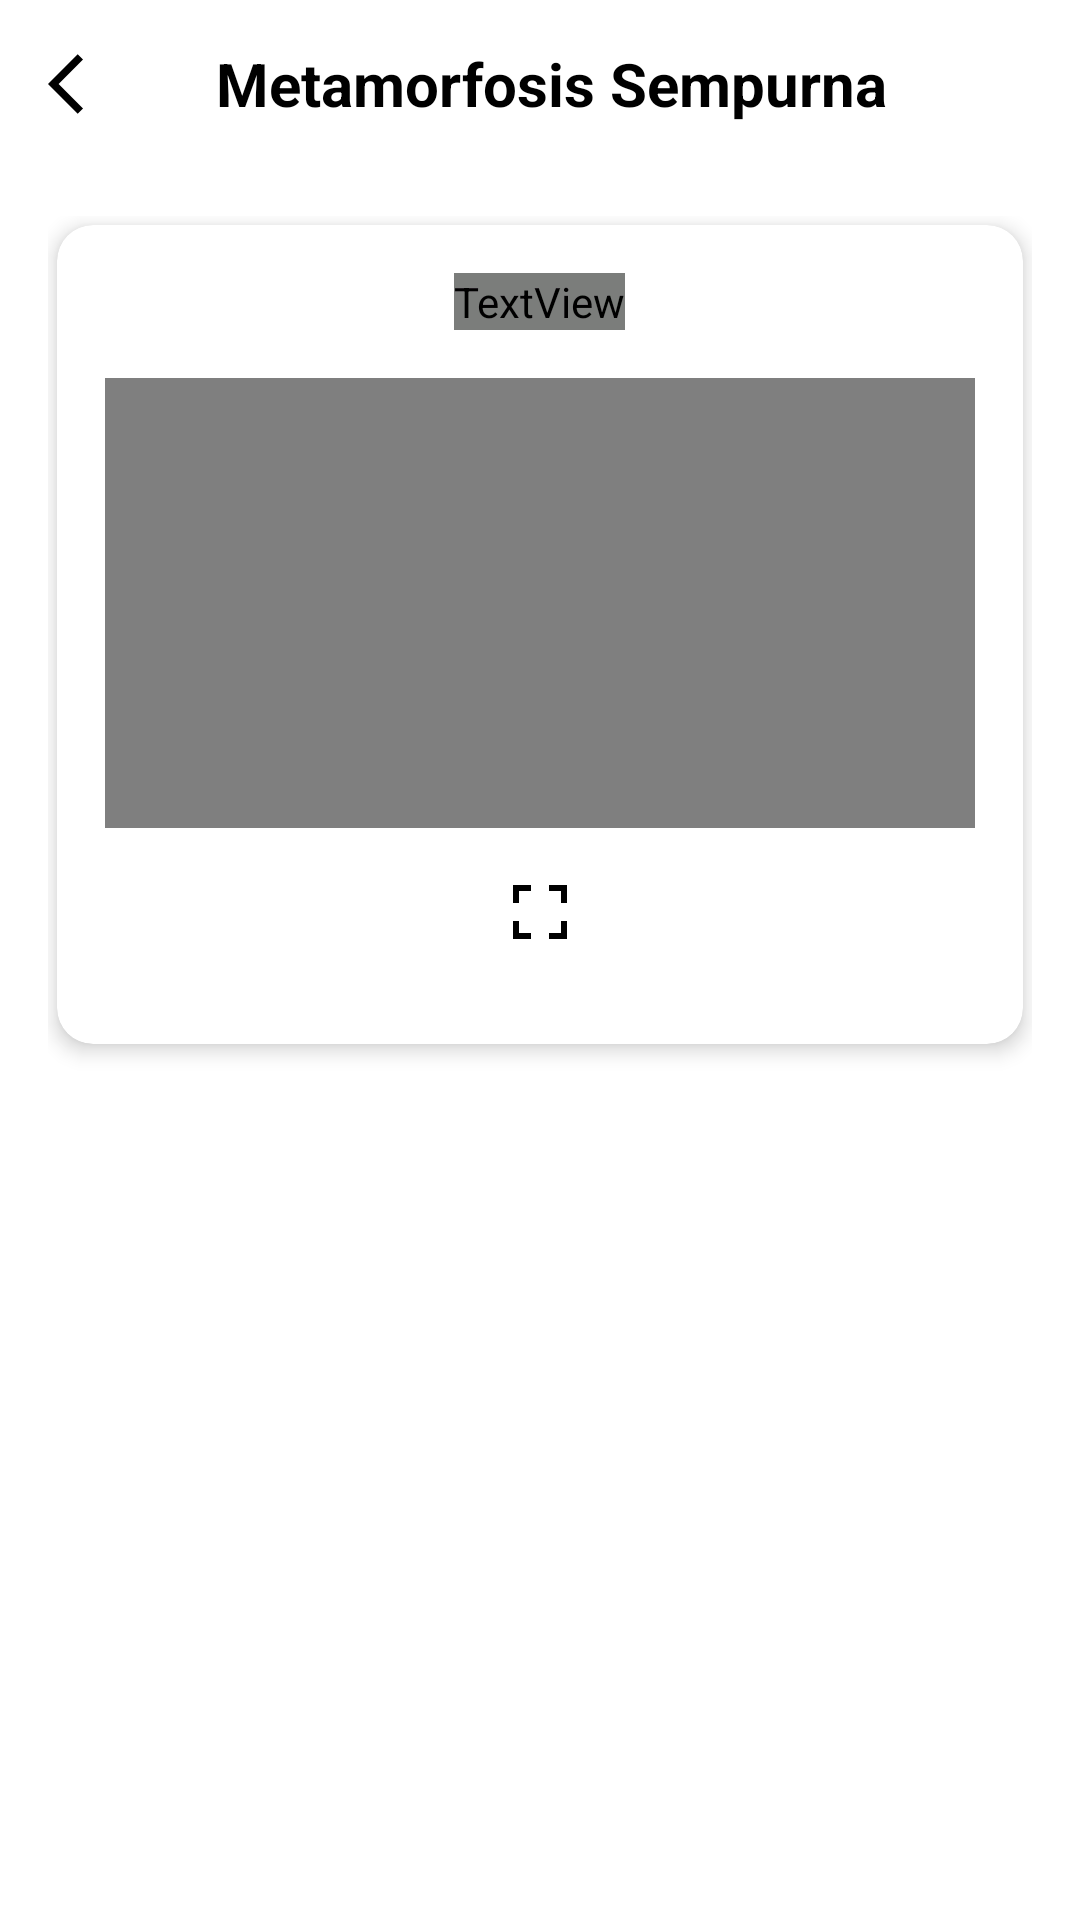

Named icons in this screenshot (1080*1920) and their centers, (x=x, y=y):
Fullscreen: (x=540, y=912)
